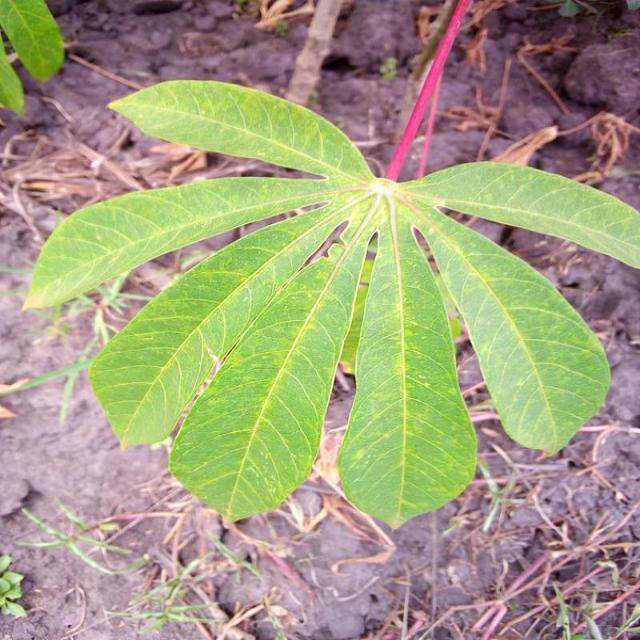cassava leaf: (22, 6, 638, 532), (168, 215, 370, 525), (336, 196, 478, 530)
